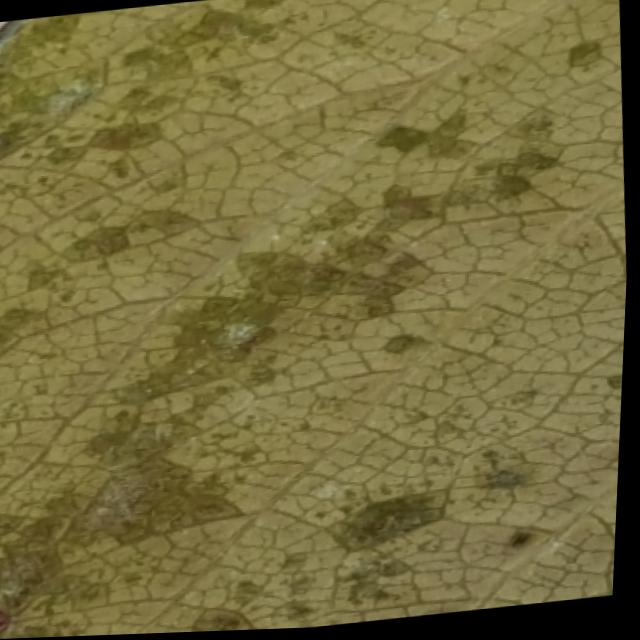Angular Leafspot: (0, 0, 629, 639)
